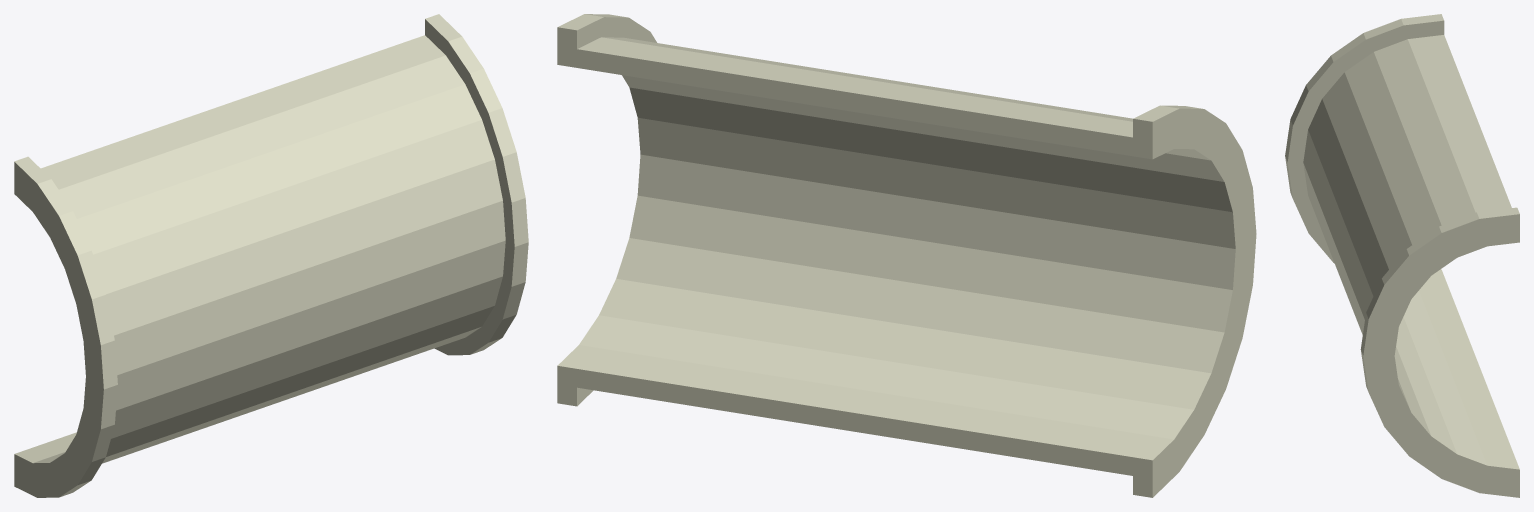
File: section_214.obj
3 renders of one model, left to right at view 1: azimuth 30°, elevation 25°; view 2: azimuth 150°, elevation 25°; view 3: azimuth 270°, elevation 25°, orthographic. The views are drawn at different scales.
Bounding box in the file's own units: 30.24 × 20 × 15.
